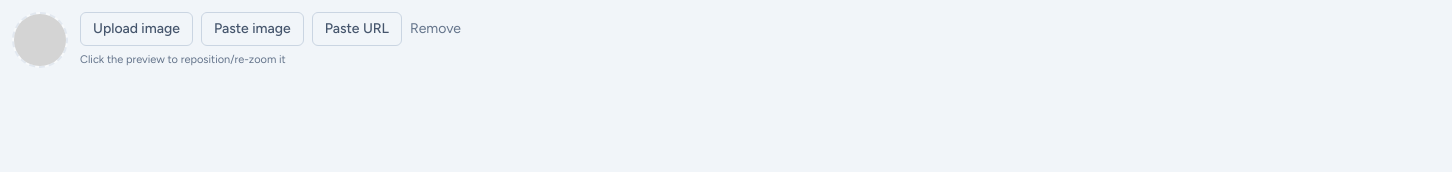
Test: ImageUploadField › collapseUrlInput › closing the toggle does not clear whatever URL/photo is already set
Click the button "Paste URL": [357, 29] box [312,12,402,46]
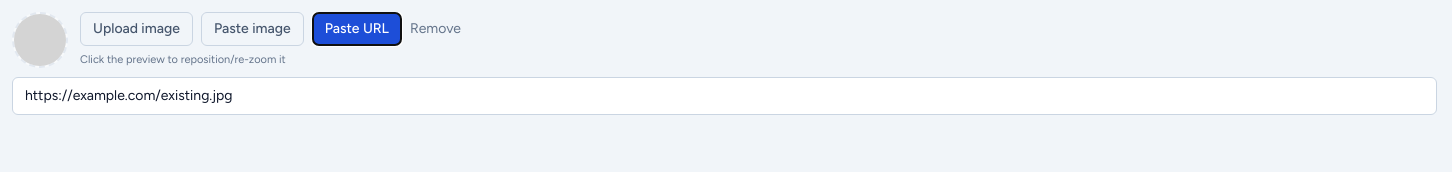
Check: the field with placeholder "https://…" holds "https://example.com/existing.jpg", box [12,76,1437,114]
Click the button "Paste URL": [357, 29] box [312,12,402,46]
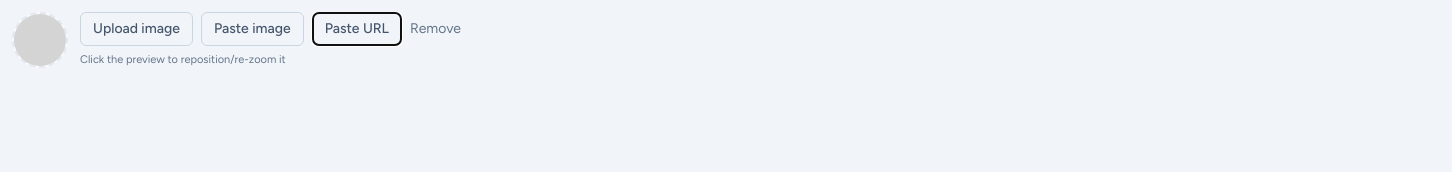
Check: the field with placeholder "https://…" is gone
